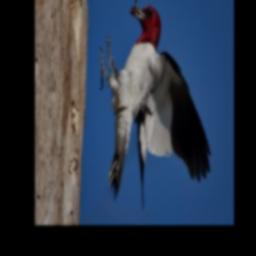Woodpecker: (100, 0, 212, 209)
